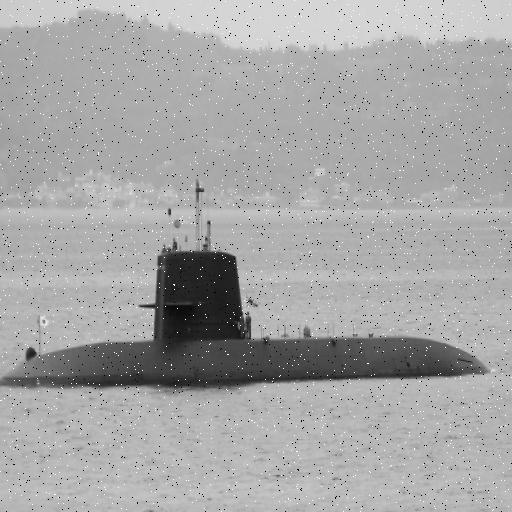submarine: (1, 242, 512, 390)
